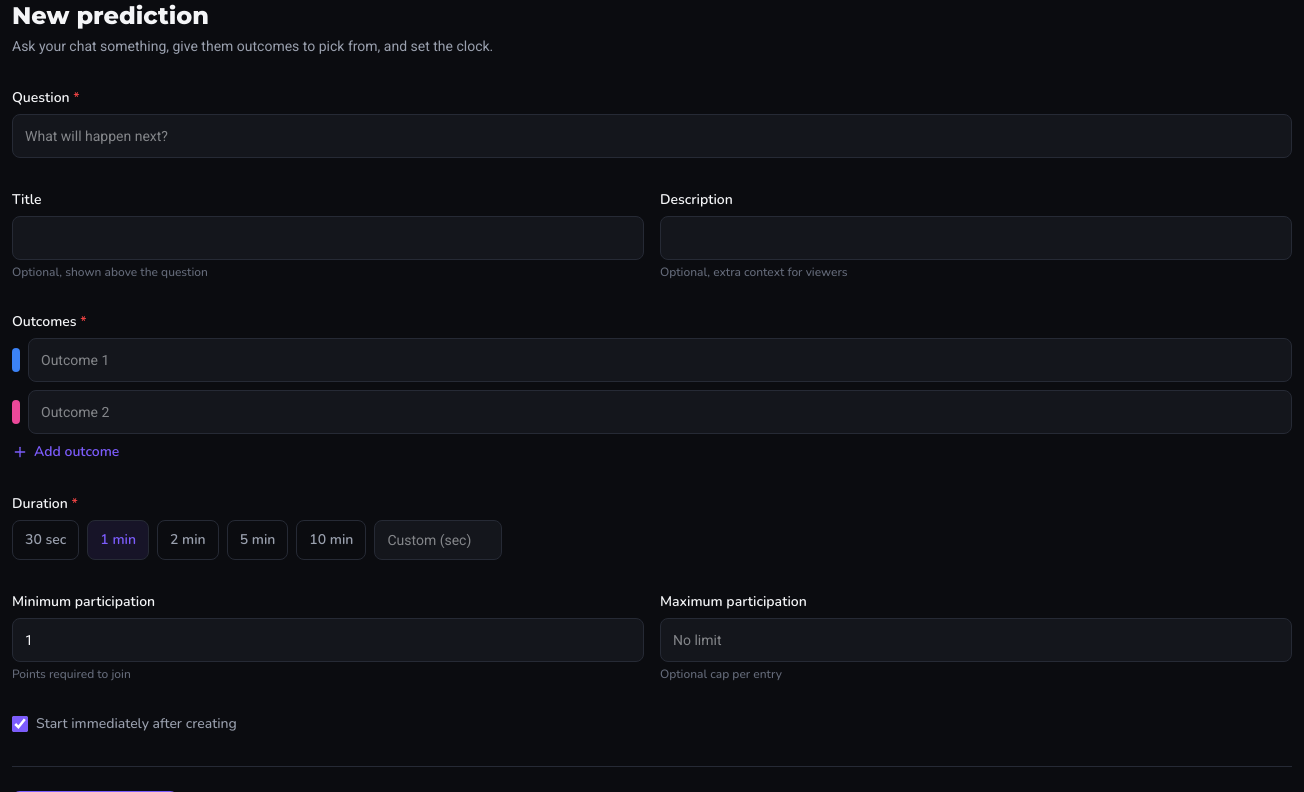
Test: PredictCreate › flags a maxPoints value lower than minPoints
In the field with placeholder "What will happen next?": (652, 136) x1=12 y1=114 x2=1292 y2=158, type "Who wins?"
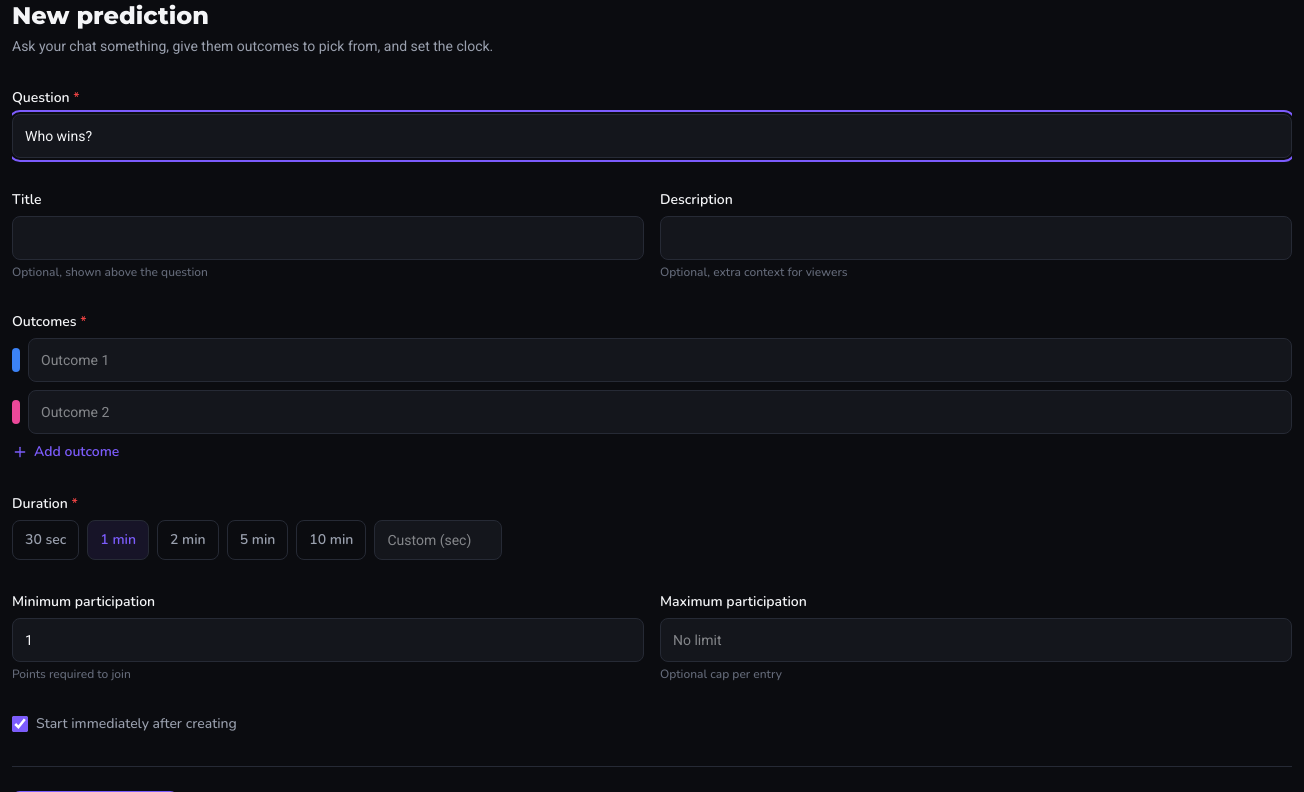
In the field with placeholder "Outcome 1": (660, 360) x1=28 y1=338 x2=1292 y2=382, type "Team A"
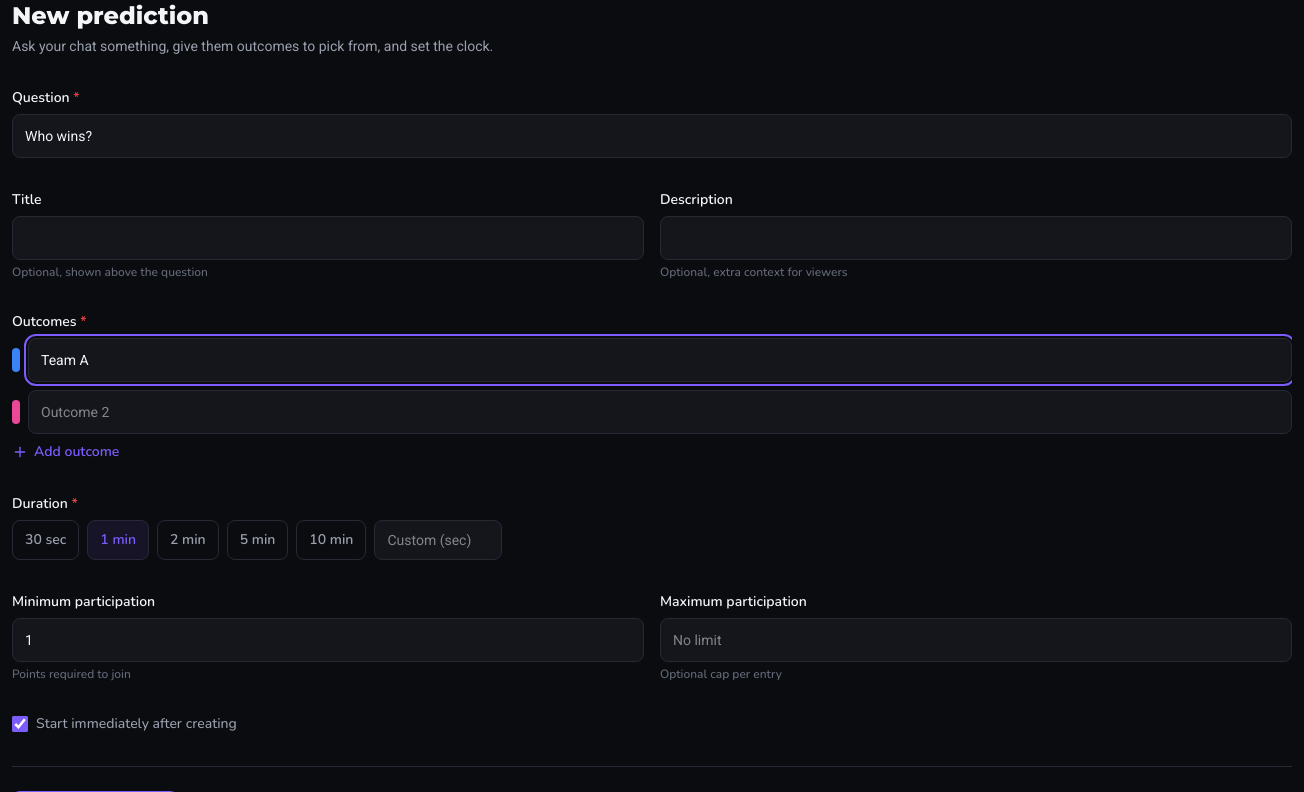
In the field with placeholder "Outcome 2": (660, 412) x1=28 y1=390 x2=1292 y2=434, type "Team B"
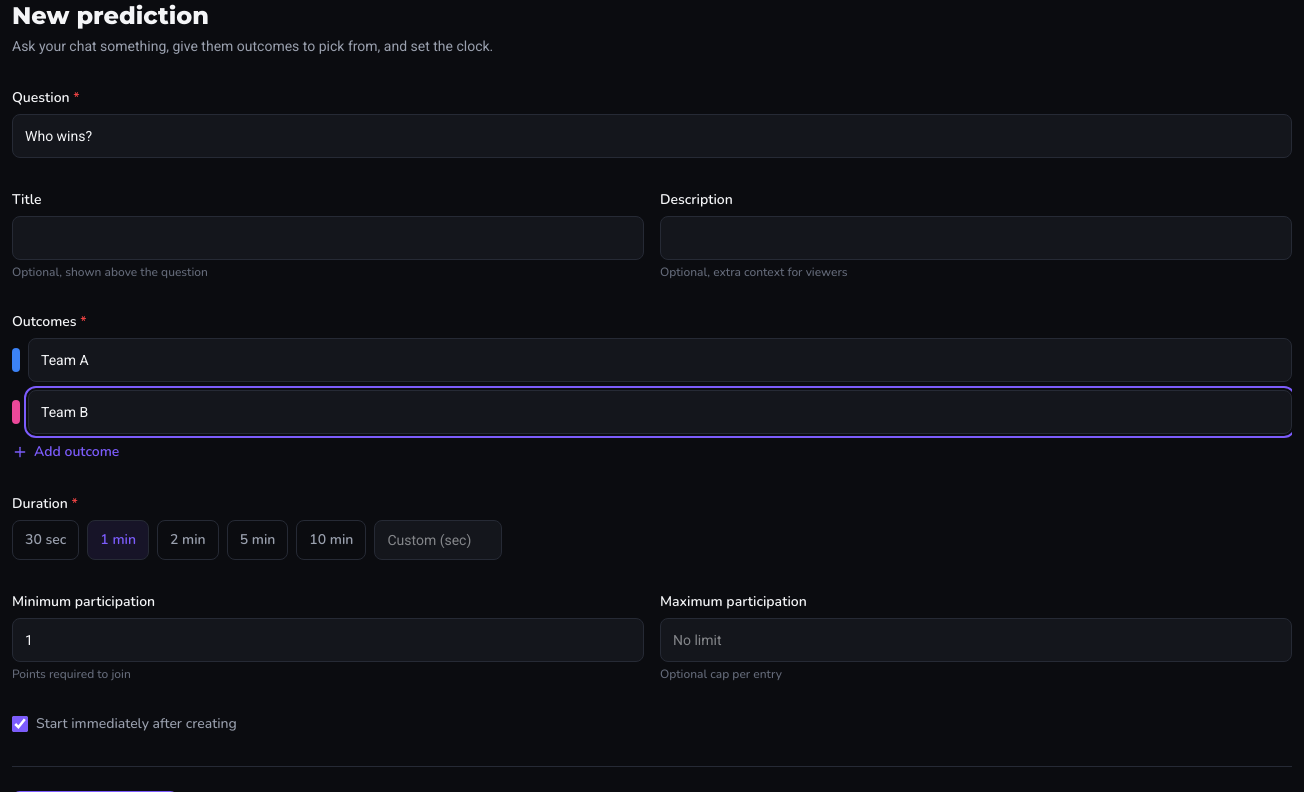
Replace the text in the number field labelled "Minimum participation" with "100": (328, 640) x1=12 y1=618 x2=644 y2=662
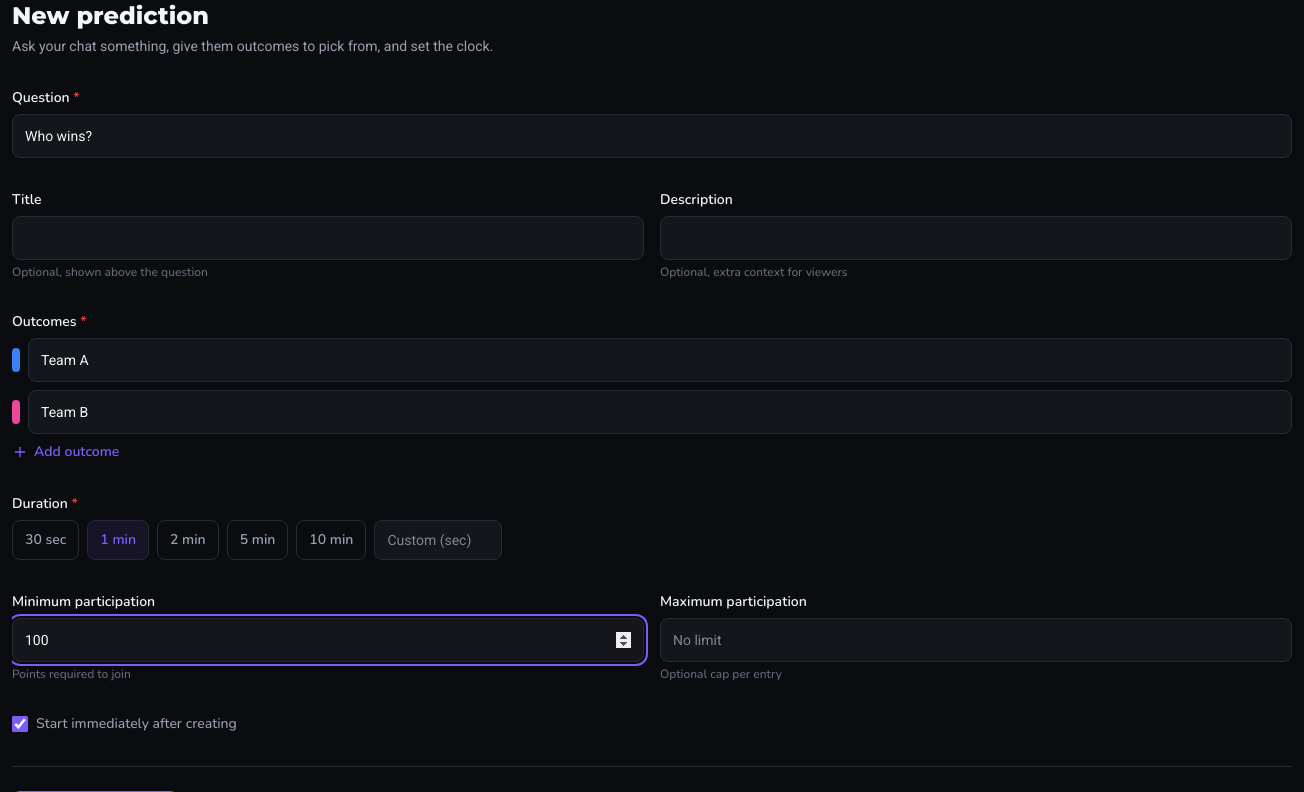
In the number field labelled "Maximum participation": (976, 640) x1=660 y1=618 x2=1292 y2=662, type "10"
(page scrolled)
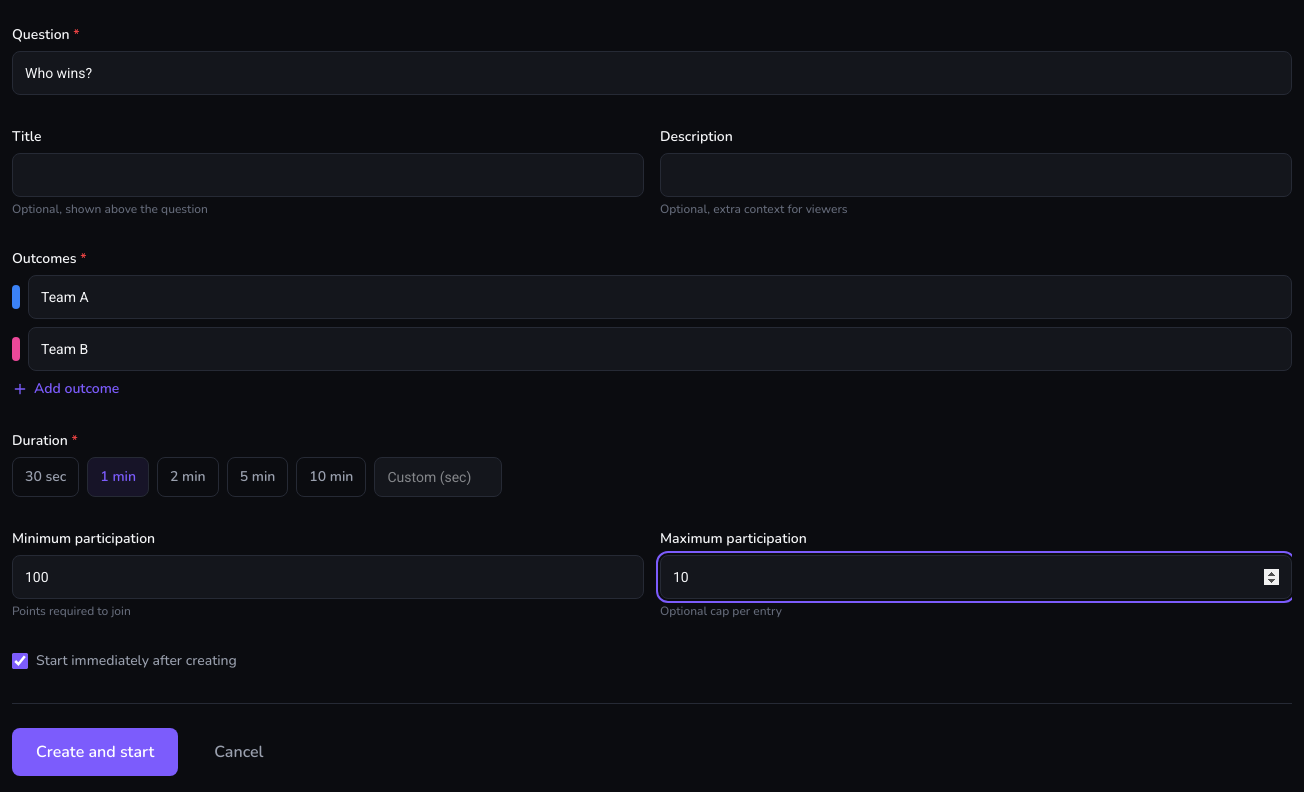
Click the button "Create and start": (95, 752) x1=12 y1=728 x2=178 y2=776
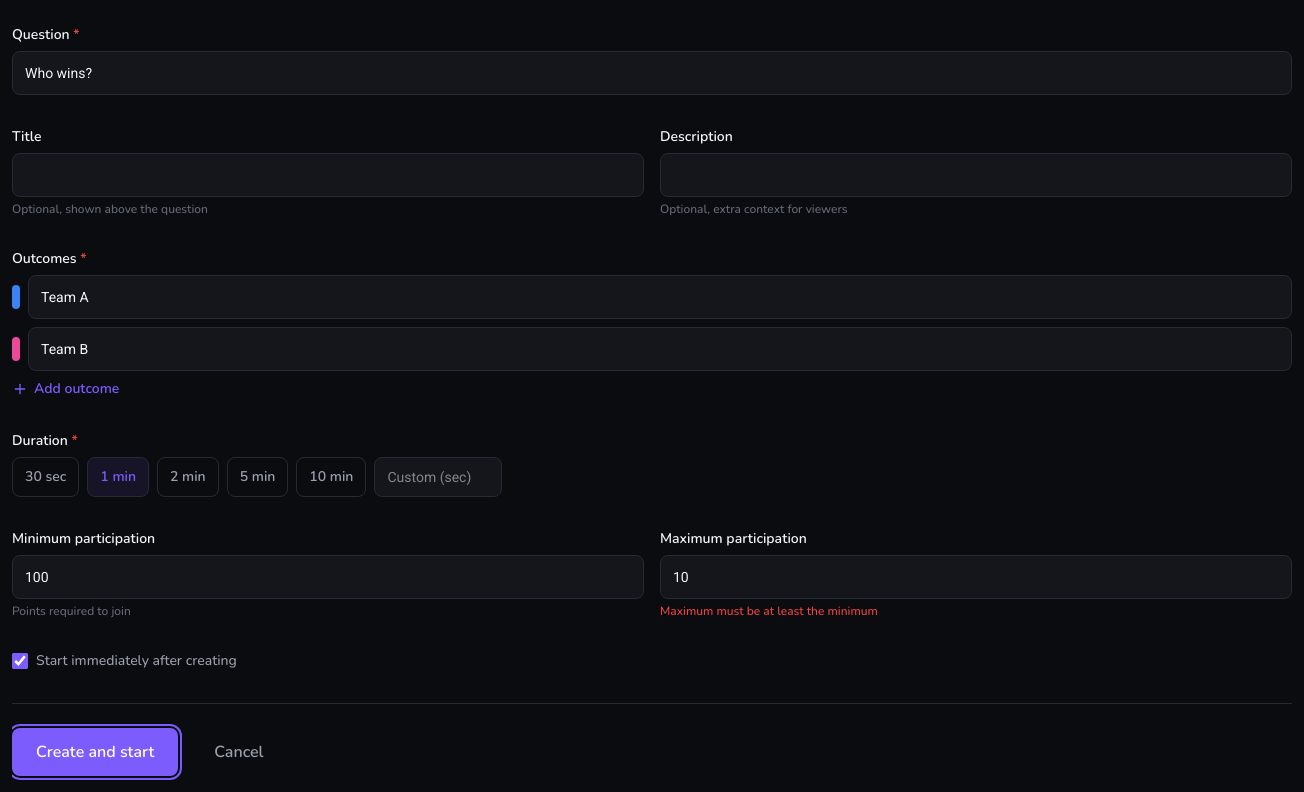
Result: the text "Maximum must be at least the minimum" is shown at x1=660 y1=603 x2=878 y2=619
